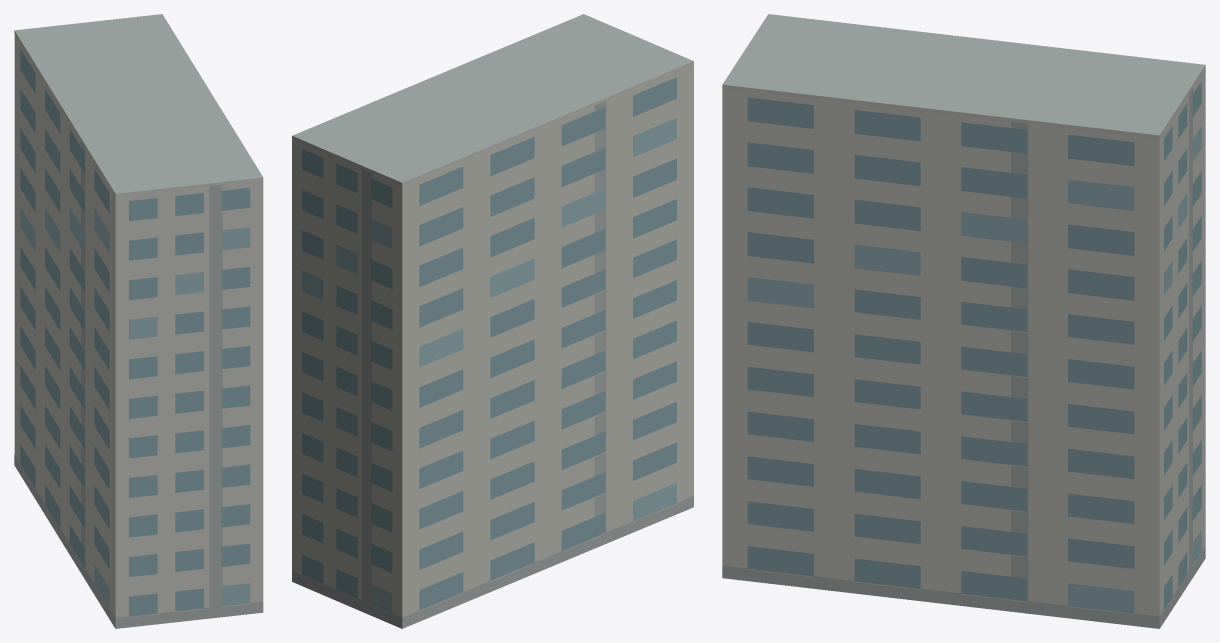
Rendered from residential-634e6988-bfb1-49c9-93d6-6640921b5cd5.glb.
The picture shows the model from 3 angles, left to right: view 1: azimuth 30°, elevation 25°; view 2: azimuth 150°, elevation 25°; view 3: azimuth 270°, elevation 25°; orthographic projection. The views are drawn at different scales.
Parts seen in each view (by area): view 1: residential-634e6988-bfb1-49c9-93d6-6640921b5cd5.tmp; view 2: residential-634e6988-bfb1-49c9-93d6-6640921b5cd5.tmp; view 3: residential-634e6988-bfb1-49c9-93d6-6640921b5cd5.tmp.
Boxes of the visible parts, <box> form: residential-634e6988-bfb1-49c9-93d6-6640921b5cd5.tmp: <box>14,14,263,628</box>; residential-634e6988-bfb1-49c9-93d6-6640921b5cd5.tmp: <box>292,14,693,628</box>; residential-634e6988-bfb1-49c9-93d6-6640921b5cd5.tmp: <box>722,14,1205,628</box>.
Size of the model in its own units: 19.01 by 36 by 31.96.
